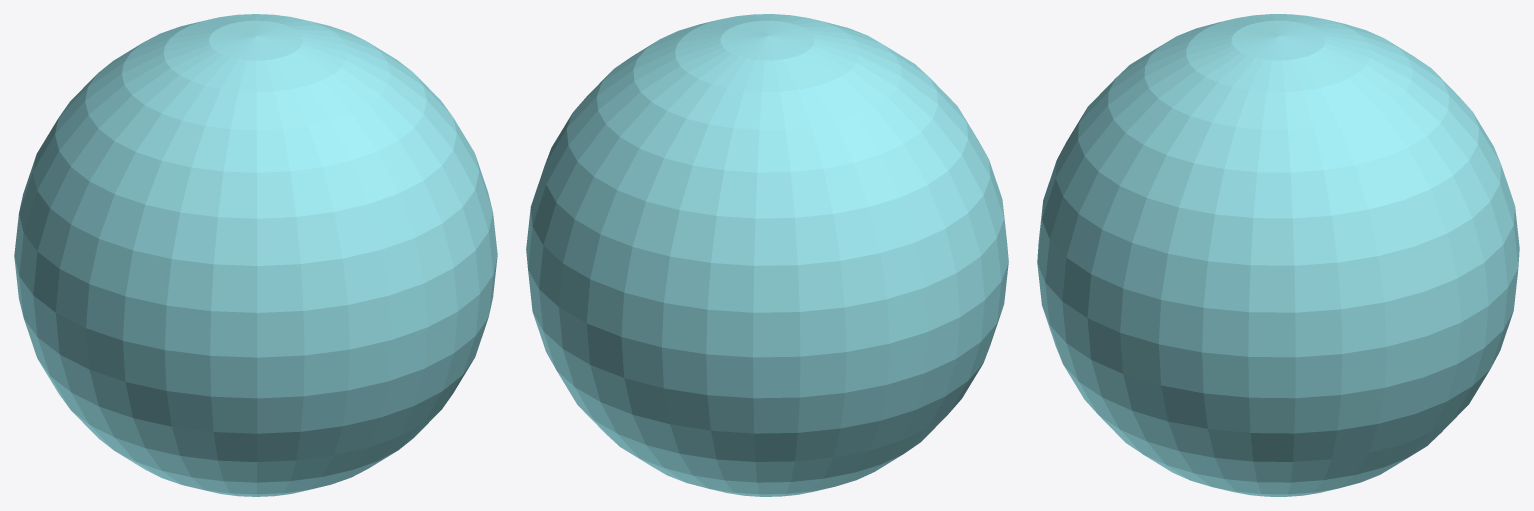
The model's file is Sphere_result (1).glb.
3 views of the same model, side by side, from view 1: azimuth 30°, elevation 25°; view 2: azimuth 150°, elevation 25°; view 3: azimuth 270°, elevation 25° (orthographic).
Size of the model in its own units: 1.99 by 2 by 1.99.
